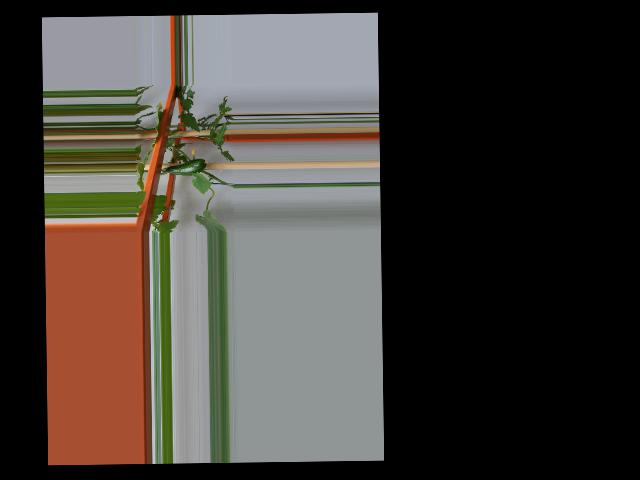cucumber: (167, 158, 209, 175)
